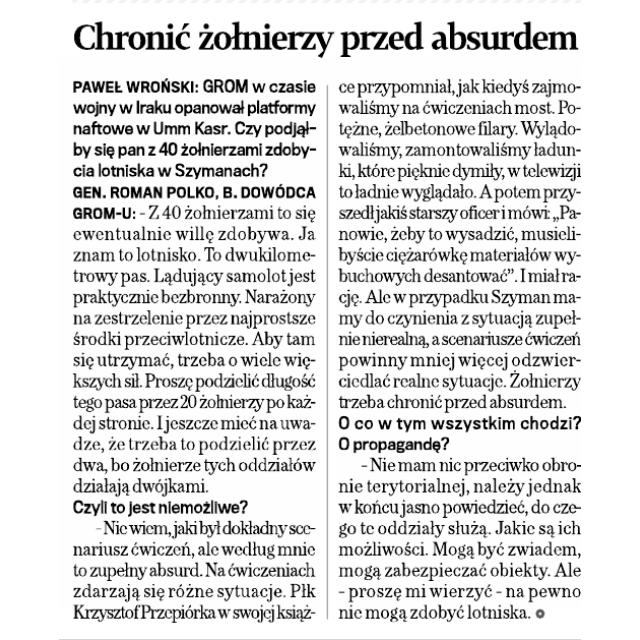body: (336, 77, 582, 628), (62, 184, 320, 626)
lead: (63, 72, 321, 180)
title: (64, 9, 582, 66)
